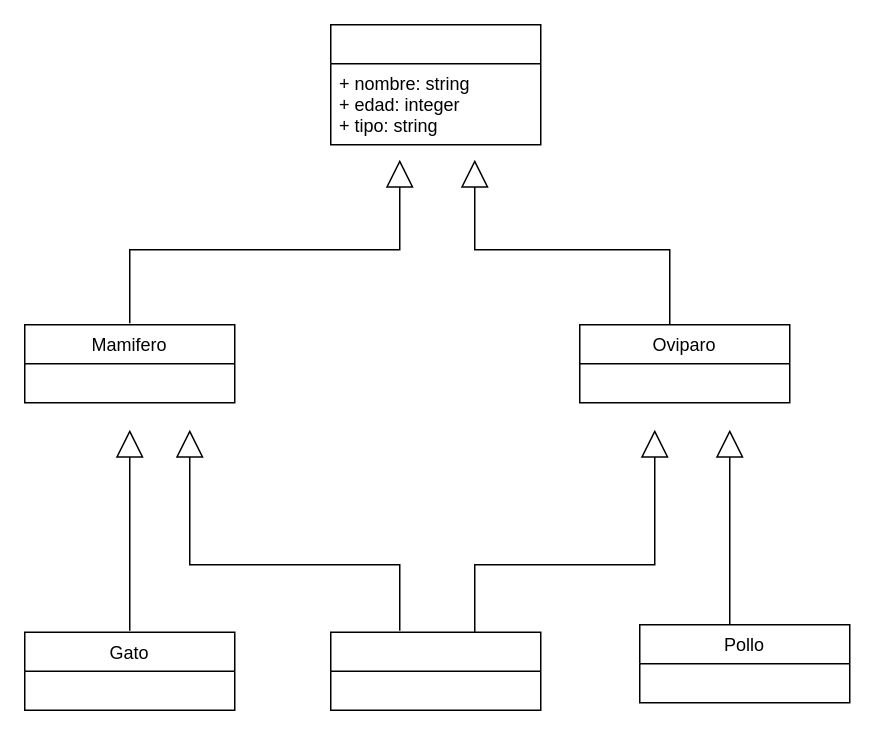
The diagram is 875 pixels wide and 735 high, and some of its shapes have lost their labels. Here are the shapes that lost their labels. From the top down, the box of each, then its label:
(329, 23, 541, 145): Animal
(329, 631, 541, 710): Ornitorrinco
